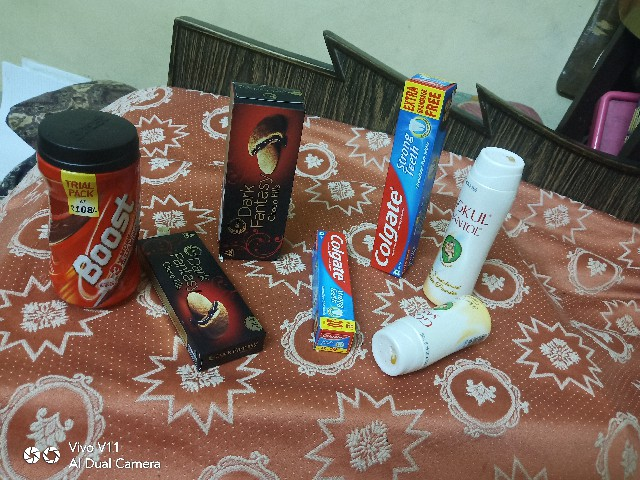boost small: (29, 102, 141, 318)
colgatetoothpaste big: (363, 49, 454, 285)
colgatetoothpaste small: (304, 223, 365, 356)
darkfantasy big: (213, 64, 307, 275)
darkfantasy small: (137, 224, 264, 405)
gokulsantol big: (420, 140, 526, 306)
gokulsantol small: (373, 292, 507, 383)
